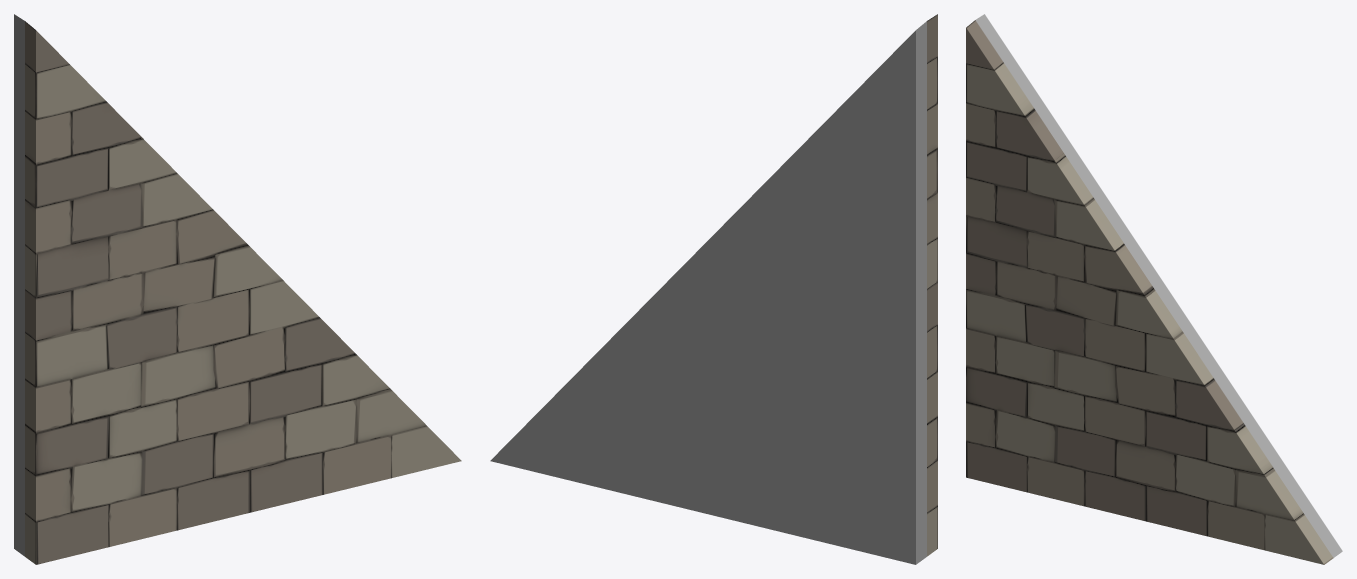
The model's file is SM_Bld_Base_Wall_Angle_01.fbx.
The picture shows the model from 3 angles, left to right: view 1: azimuth 30°, elevation 25°; view 2: azimuth 150°, elevation 25°; view 3: azimuth 330°, elevation 25°; orthographic projection. The views are drawn at different scales.
Parts seen in each view (by area): view 1: SM_Bld_Base_Wall_Angle_01; view 2: SM_Bld_Base_Wall_Angle_01; view 3: SM_Bld_Base_Wall_Angle_01.
Part boxes in pixels (x1,y1,x2,y2): SM_Bld_Base_Wall_Angle_01: (14, 14, 461, 564); SM_Bld_Base_Wall_Angle_01: (490, 14, 937, 564); SM_Bld_Base_Wall_Angle_01: (966, 14, 1342, 564).
Size of the model in its own units: 250 by 301 by 22.5.
